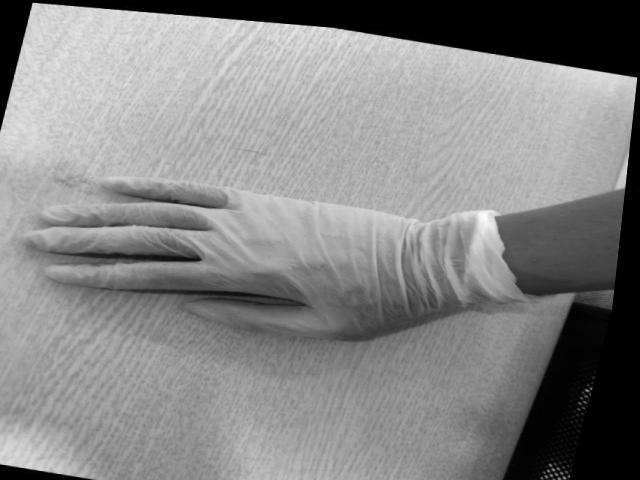gloved: (34, 174, 410, 340)
